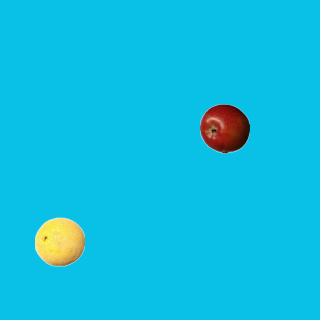Apple Braeburn: (199, 103, 249, 153)
Cantaloupe 1: (34, 216, 84, 266)
